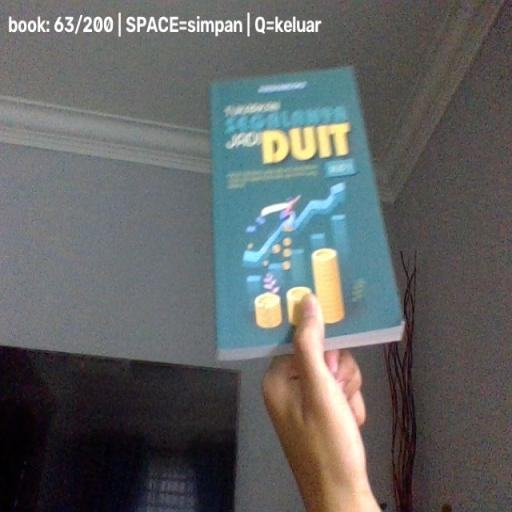Book: (208, 66, 406, 363)
